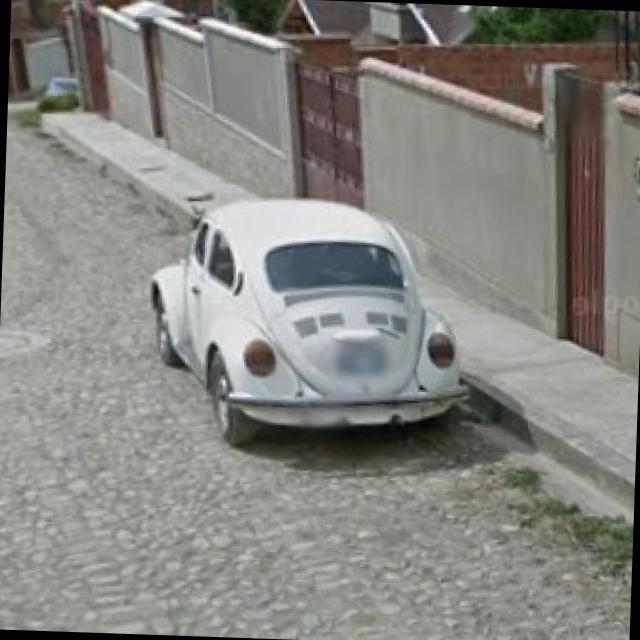car: (146, 197, 464, 444)
